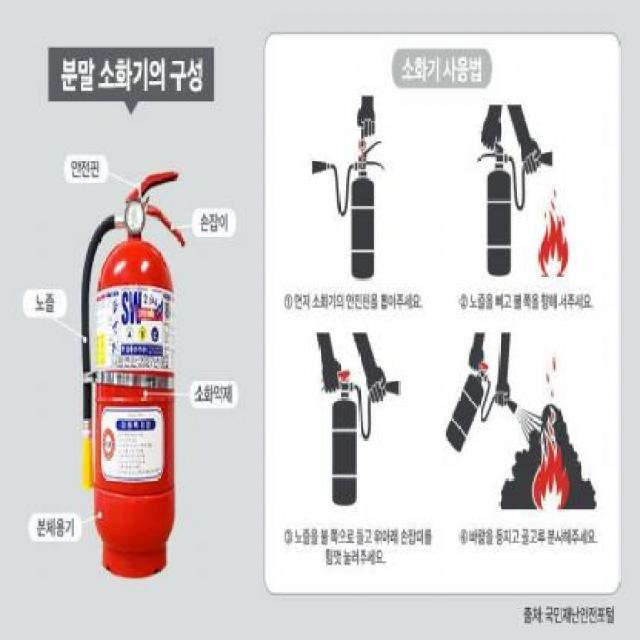fire extinguisher: (79, 170, 185, 578)
